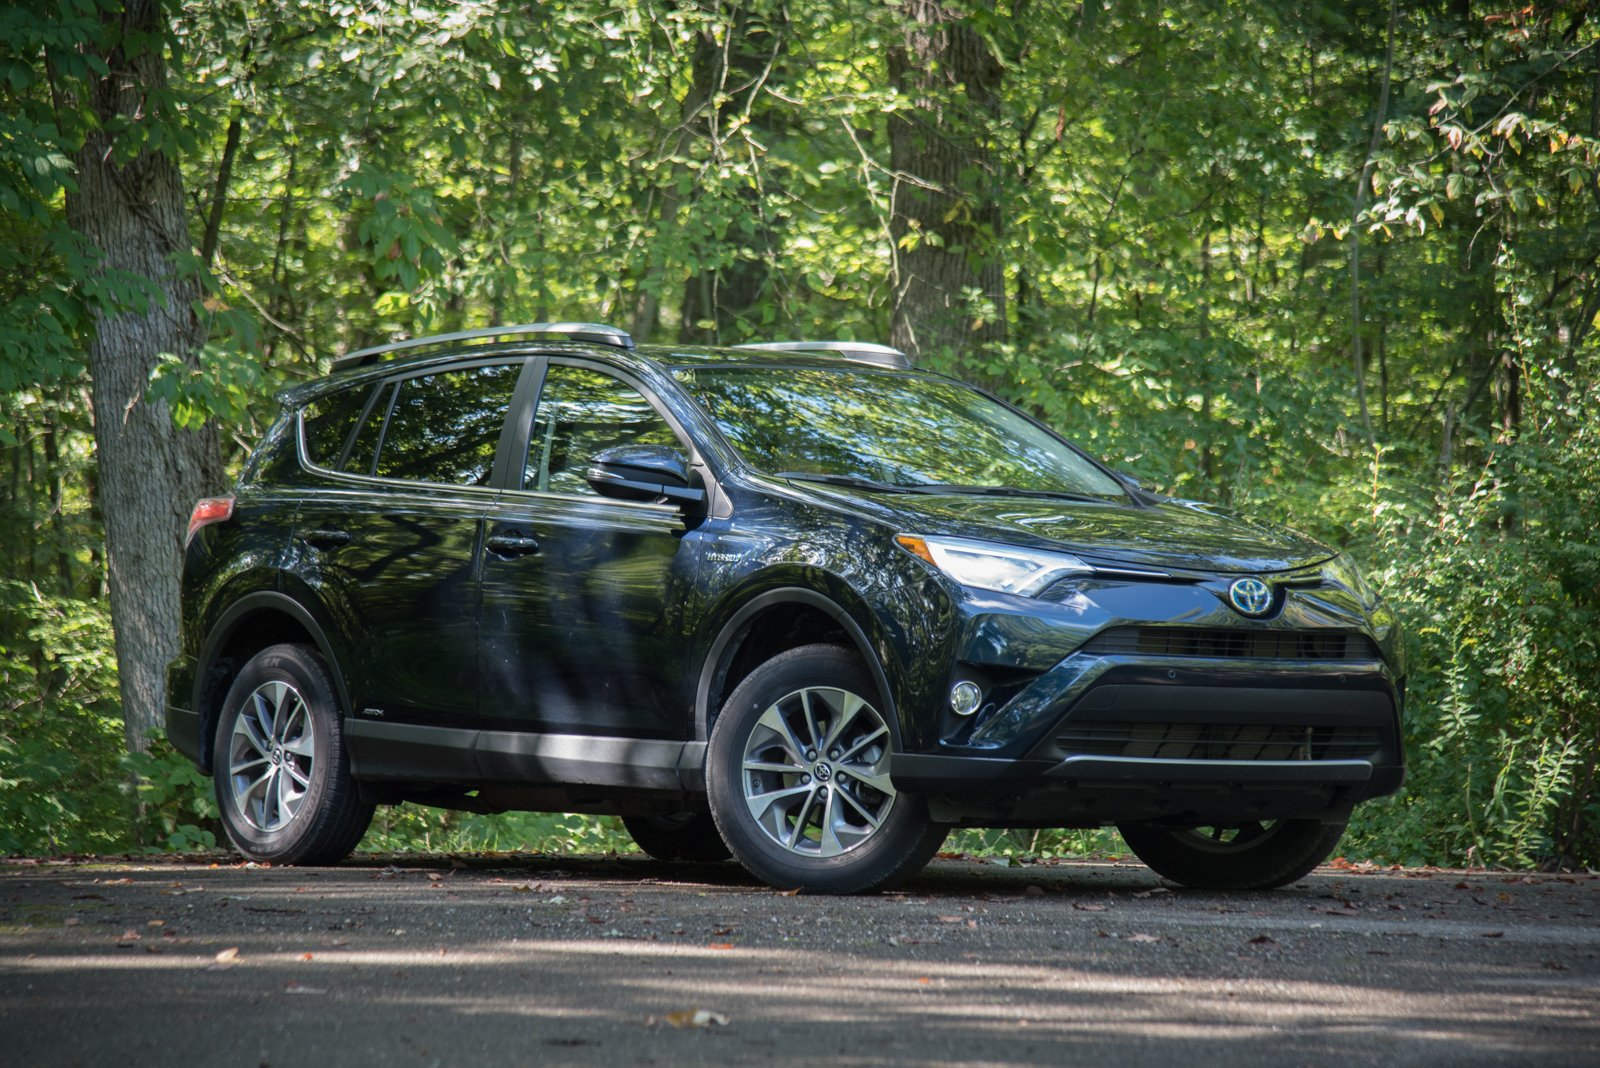Toyota RAV-4: (161, 319, 1408, 898)
